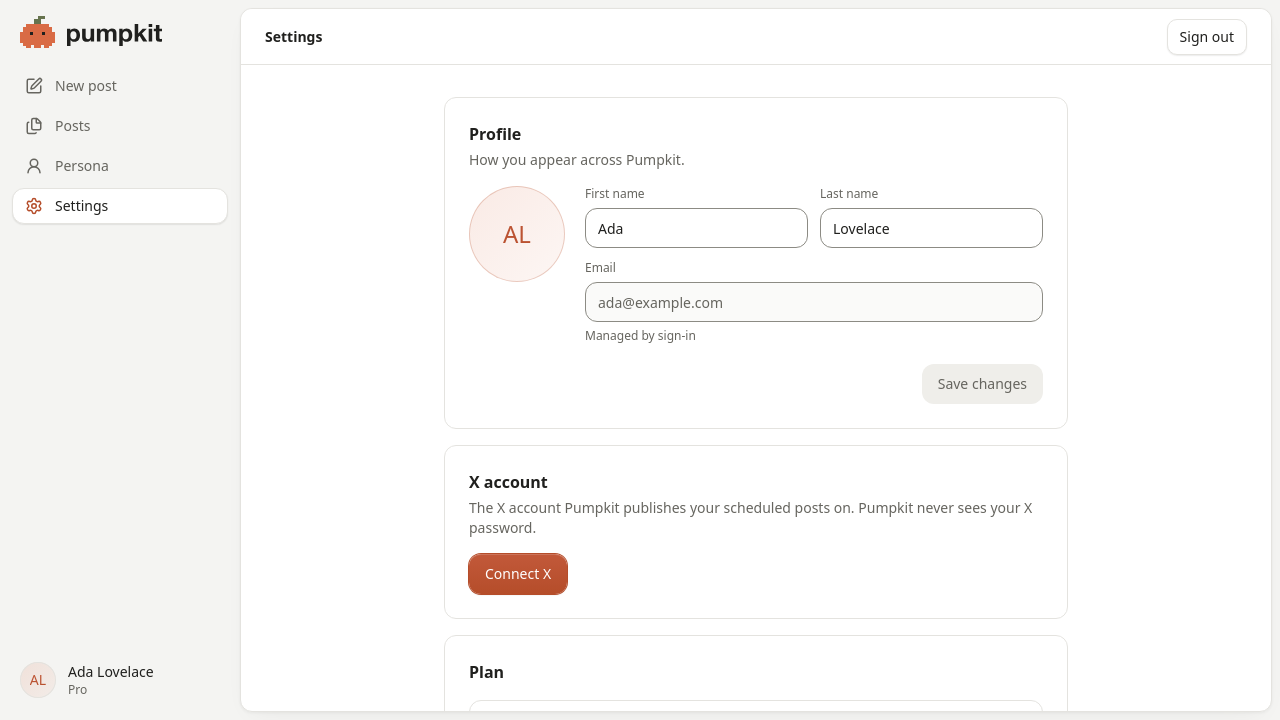
Test case: Settings › Profile › shows why saving failed and keeps the change
Replace the text in the field labelled "Last name" with "Byron" at (932, 228), box [820, 208, 1043, 248]
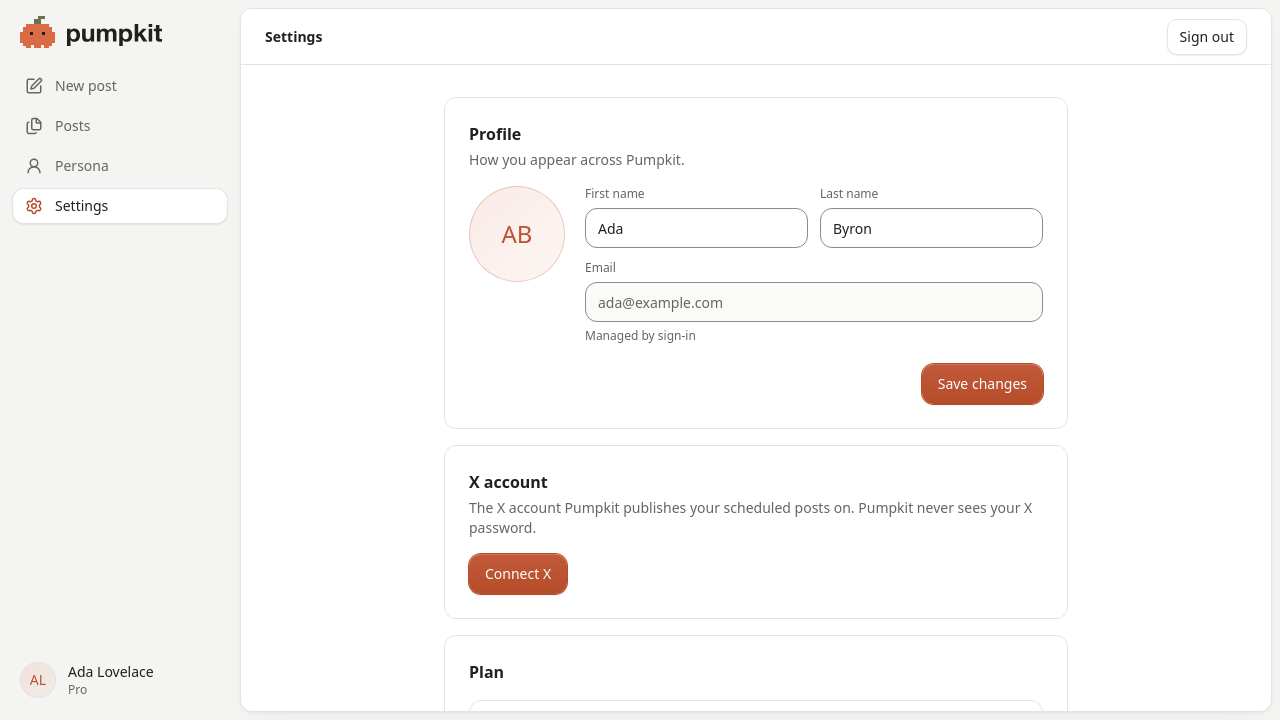
Click the button "Save changes" at (982, 384), box [922, 364, 1043, 404]
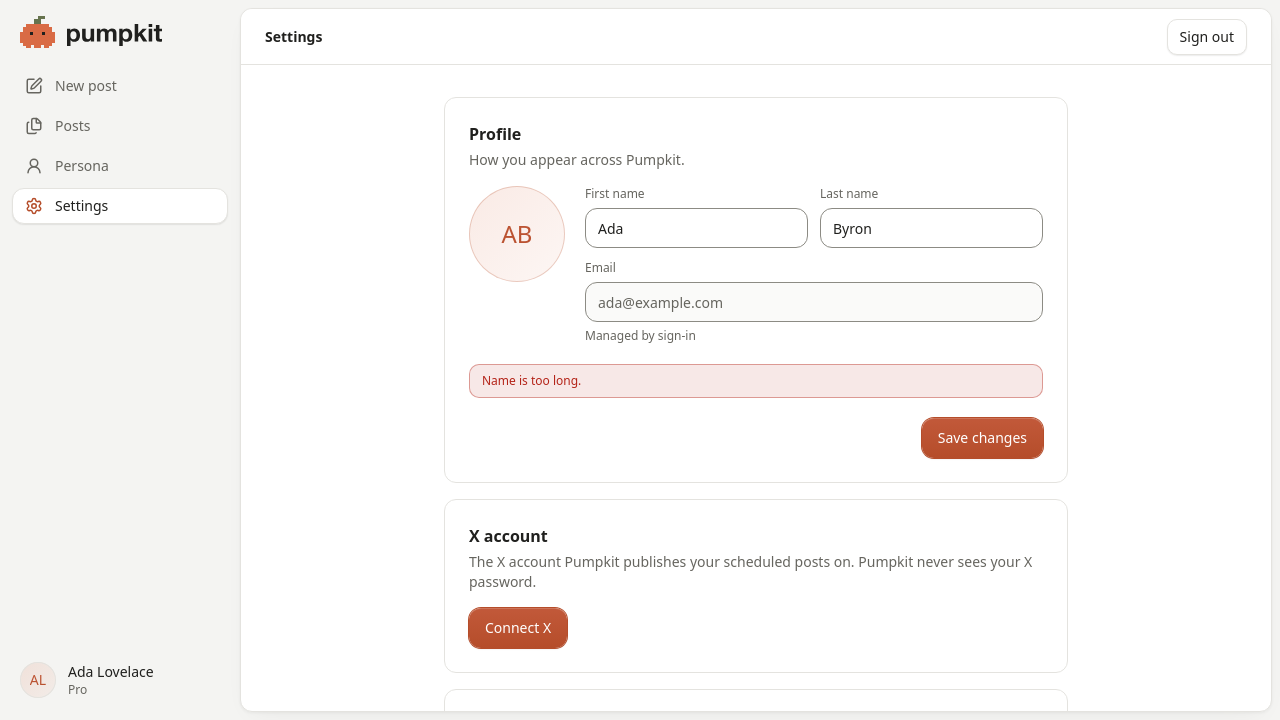
Now the button "Save changes" is enabled, box [922, 418, 1043, 458]
Now the message reads "Name is too long.", box [482, 372, 581, 389]
